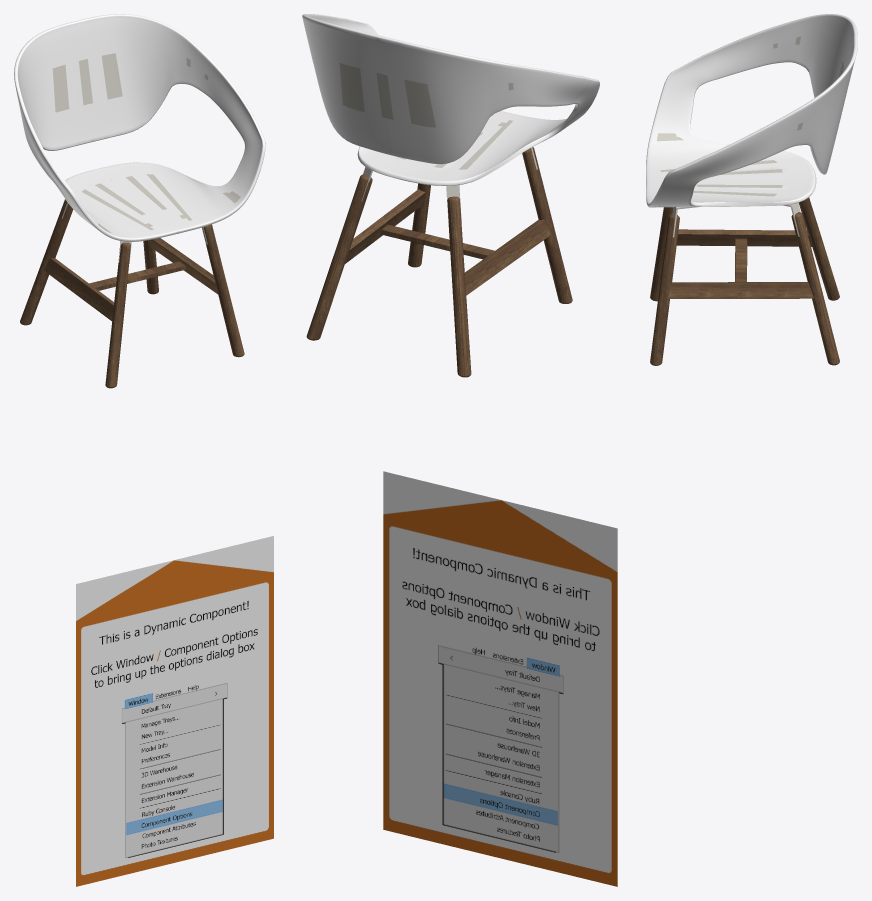
Rendered from whitechair.fbx.
3 views of the same model, side by side, from view 1: azimuth 30°, elevation 25°; view 2: azimuth 150°, elevation 25°; view 3: azimuth 270°, elevation 25° (orthographic). The views are drawn at different scales.
Visible parts, largest first — view 1: Model, mirror, mirror1, Group3, Group1, Group2, leg_post, legs; view 2: Model, mirror1, mirror, Group3, leg_post, leg_post1, Group1, legs, Group2; view 3: mirror1, mirror, Group3, leg_post1, Group2, leg_post, Group1, legs.
Boxes of the visible parts, x1,y1,x2,y2 form: Model: [76, 536, 273, 886]; mirror: [78, 14, 265, 233]; mirror1: [14, 20, 178, 241]; Group3: [43, 238, 217, 321]; Group1: [105, 242, 130, 388]; Group2: [202, 224, 244, 357]; leg_post: [20, 199, 73, 325]; legs: [89, 261, 186, 290]; Model: [383, 471, 617, 886]; mirror1: [376, 35, 599, 185]; mirror: [302, 14, 421, 179]; Group3: [345, 189, 551, 295]; leg_post: [447, 196, 471, 377]; leg_post1: [306, 174, 372, 340]; Group1: [522, 147, 572, 303]; legs: [380, 224, 494, 259]; Group2: [408, 183, 430, 267]; mirror1: [646, 14, 857, 181]; mirror: [646, 39, 857, 207]; Group3: [667, 229, 813, 298]; leg_post1: [791, 212, 839, 365]; Group2: [650, 214, 679, 365]; leg_post: [798, 197, 839, 300]; Group1: [650, 207, 672, 301]; legs: [735, 238, 747, 281].
Bounding box in the file's own units: 62.93 × 226 × 54.19.
